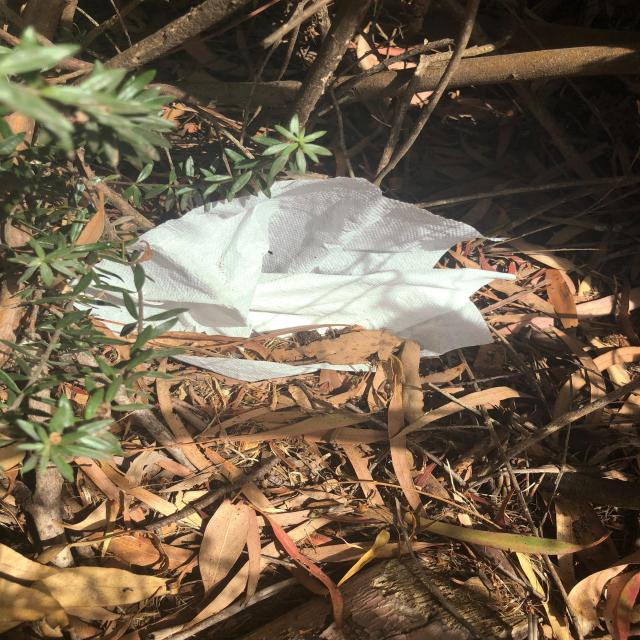litter: (191, 84, 536, 443)
